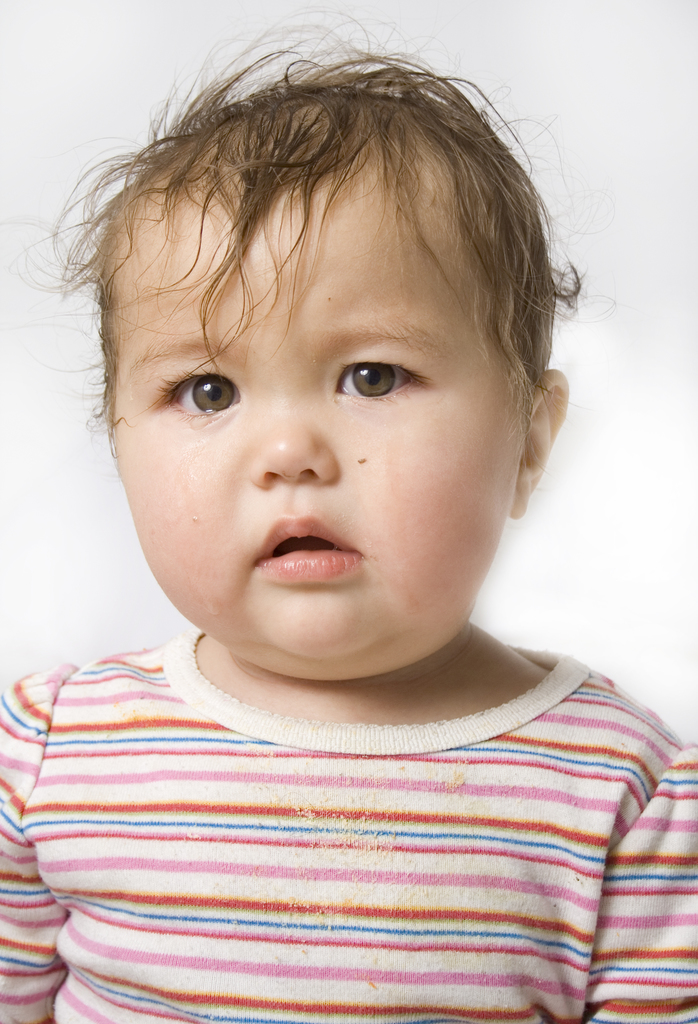Human-face: (113, 172, 521, 672)
